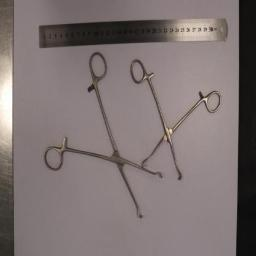Babcock Tissue Forceps: (130, 60, 222, 180)
